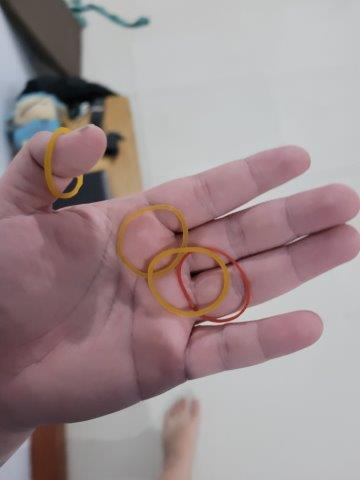karet: (145, 245, 230, 314), (176, 248, 251, 323), (115, 203, 189, 277), (43, 128, 86, 196)
